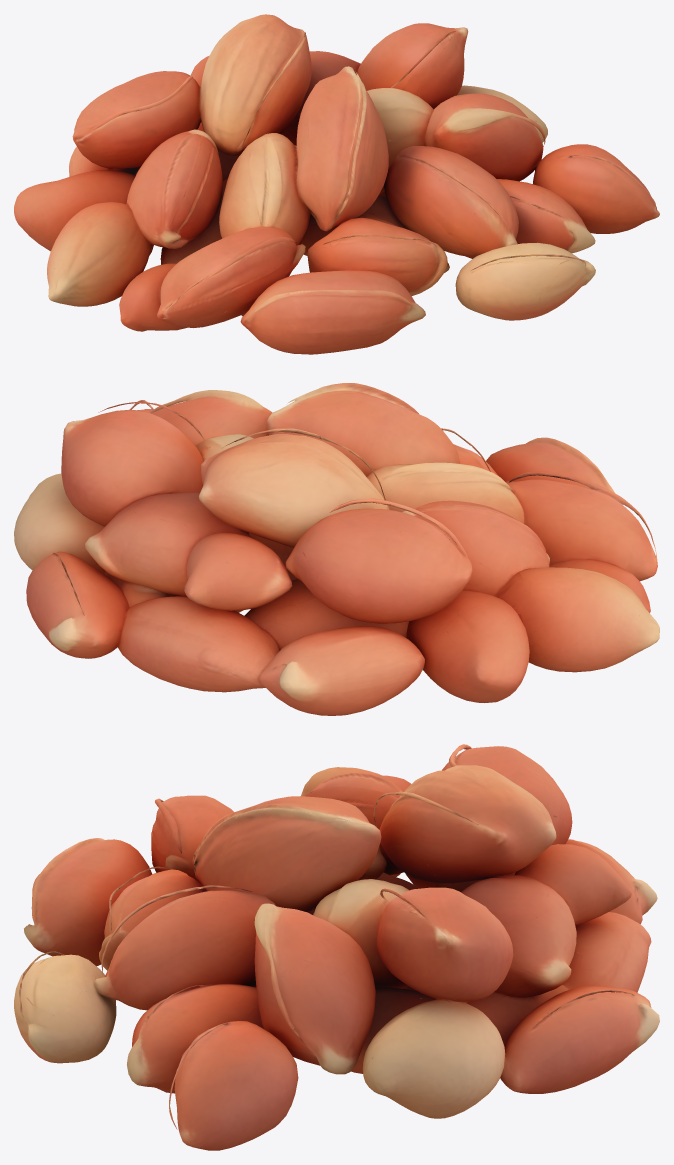
The model's file is lod_basic_shaded.fbx.
3 views of the same model, one above another, from view 1: azimuth 30°, elevation 25°; view 2: azimuth 150°, elevation 25°; view 3: azimuth 270°, elevation 25° (orthographic). The views are drawn at different scales.
Visible parts, largest first — view 1: model_LOD0; view 2: model_LOD0; view 3: model_LOD0.
Part boxes in pixels (box(x1,y1,x2,y2)): model_LOD0: box(14, 14, 659, 354); model_LOD0: box(14, 383, 659, 715); model_LOD0: box(14, 744, 659, 1150).
Size of what is drawn, in the model's own units: 189 by 60.78 by 158.
